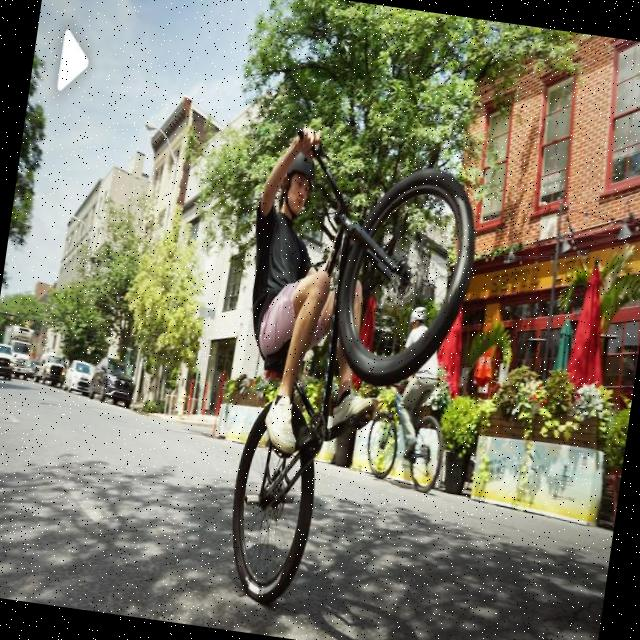Wheeling: (210, 151, 513, 640)
